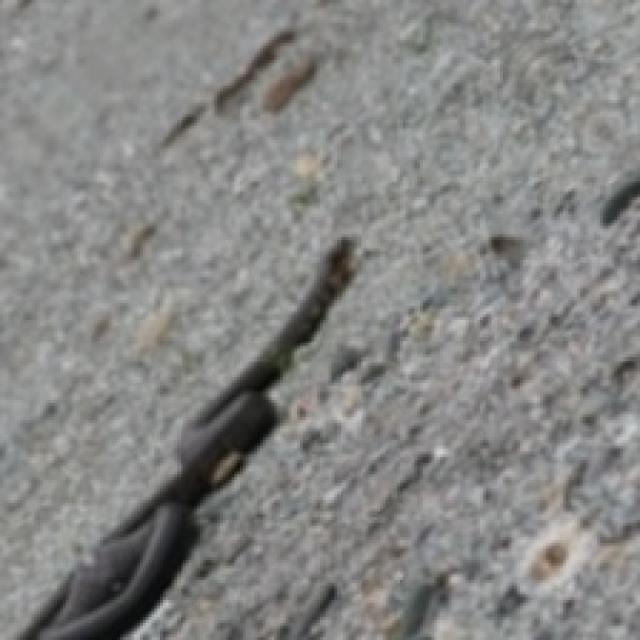king cobra: (17, 237, 354, 637)
